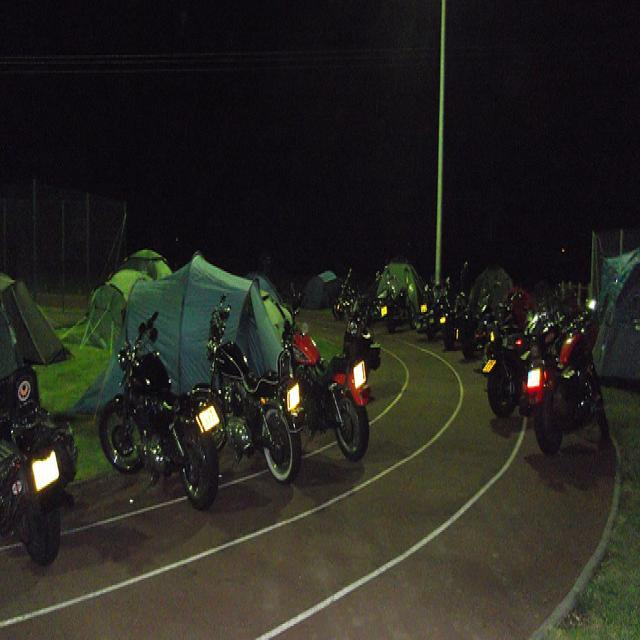Motorbike: (183, 282, 373, 488), (90, 324, 234, 539), (464, 278, 604, 466), (11, 346, 73, 546), (415, 265, 475, 357), (333, 271, 416, 336)
